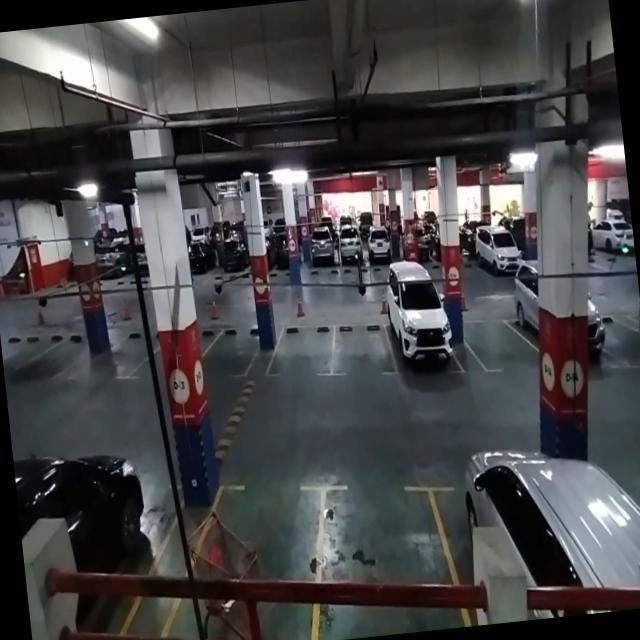empty: (305, 454, 459, 640), (462, 311, 532, 377), (264, 319, 336, 382), (326, 318, 396, 382), (209, 322, 263, 380)
occupied: (436, 432, 615, 628), (379, 267, 464, 382)
